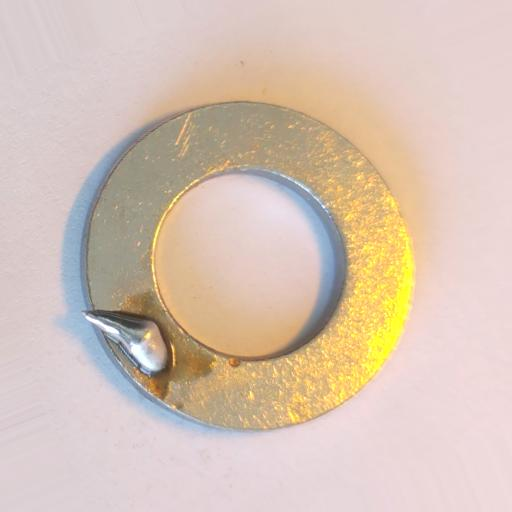circular_cavity: (228, 357, 242, 368)
excess_material: (81, 309, 170, 378)
